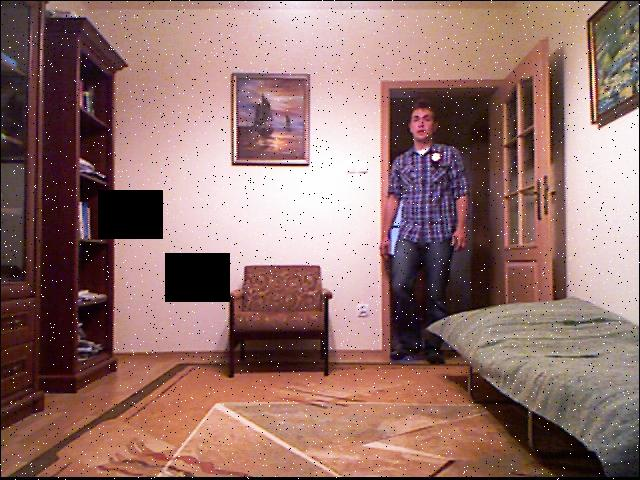walking: (380, 94, 465, 379)
